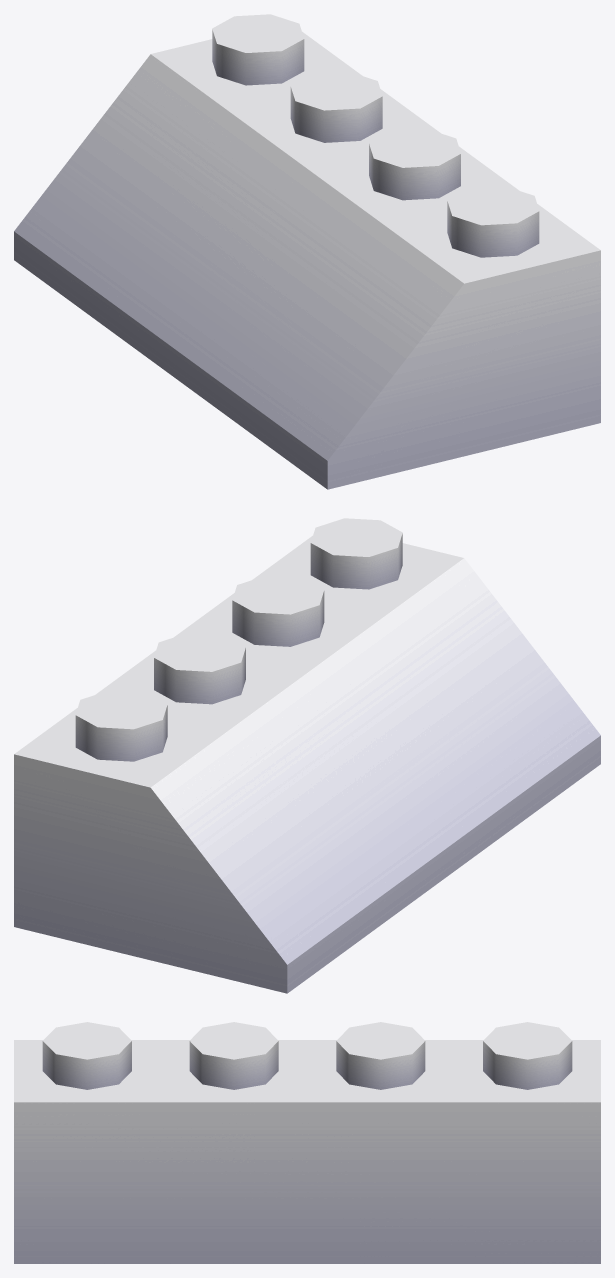
Rendered from round_lq_brick_slope_2x4.glb.
3 views of the same model, one above another, from view 1: azimuth 30°, elevation 25°; view 2: azimuth 150°, elevation 25°; view 3: azimuth 270°, elevation 25° (orthographic). The views are drawn at different scales.
Parts seen in each view (by area): view 1: round-lq-brick-slope-2x4; view 2: round-lq-brick-slope-2x4; view 3: round-lq-brick-slope-2x4.
Boxes of the visible parts, x1,y1,x2,y2 form: round-lq-brick-slope-2x4: [14, 14, 600, 489]; round-lq-brick-slope-2x4: [14, 518, 600, 993]; round-lq-brick-slope-2x4: [14, 1022, 600, 1263].
Bounding box in the file's own units: 0.159 × 0.114 × 0.316.
Materials: 1 (1 with a texture image).
